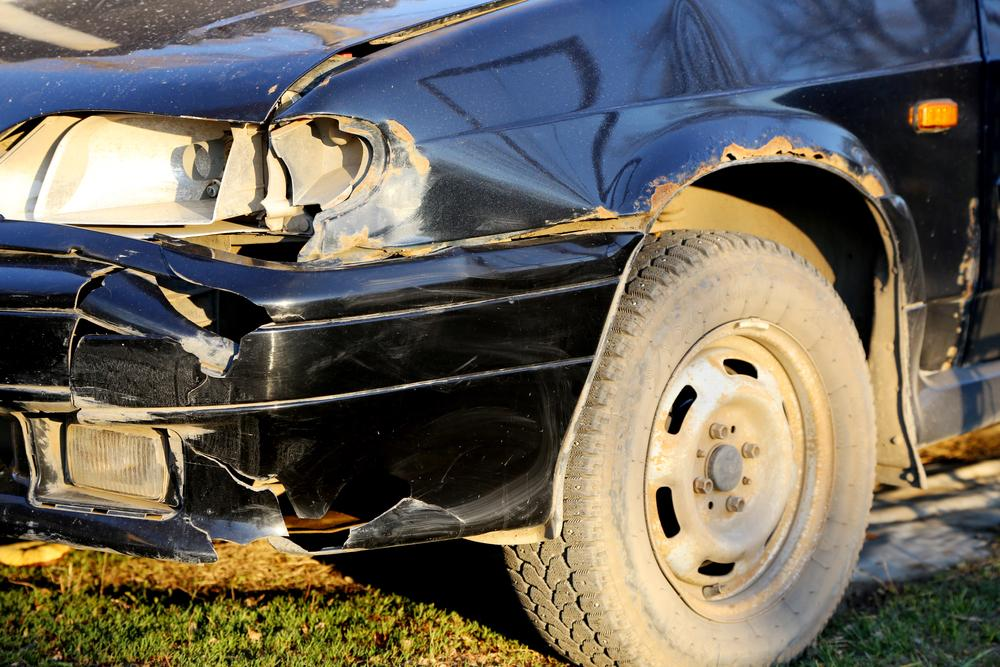crack: (185, 444, 414, 552), (154, 245, 278, 405), (68, 263, 138, 385)
dent: (318, 120, 616, 294)
lamp broken: (0, 111, 384, 271)
